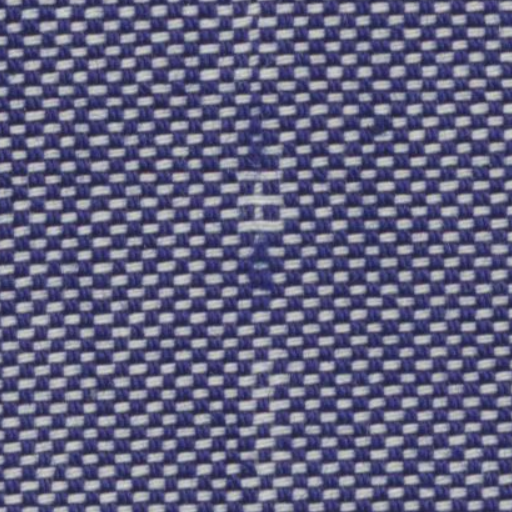TuoSha: (212, 23, 316, 487)
